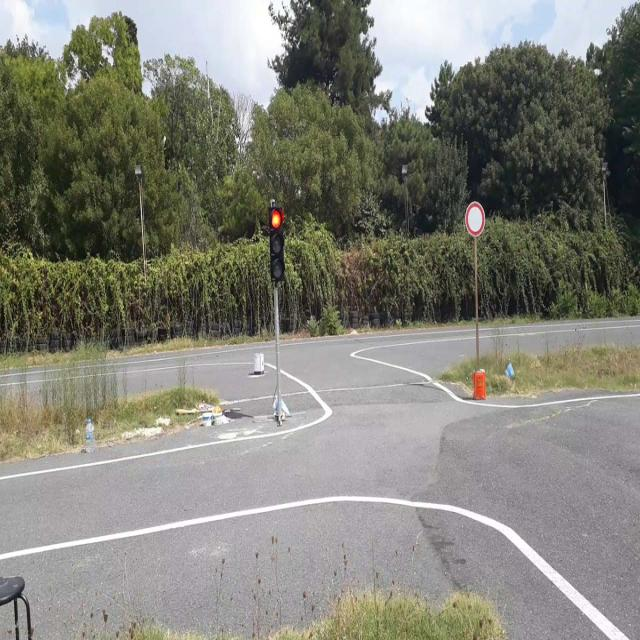kirmizi: (269, 207, 284, 281)
